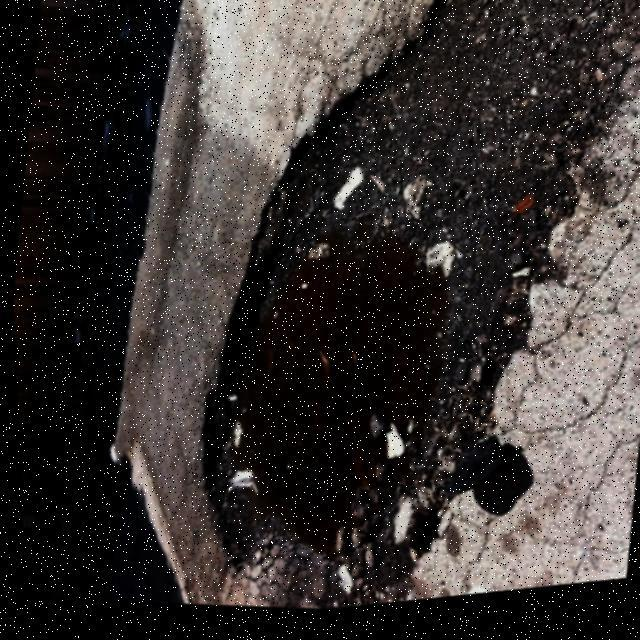pothole: (180, 198, 478, 601)
